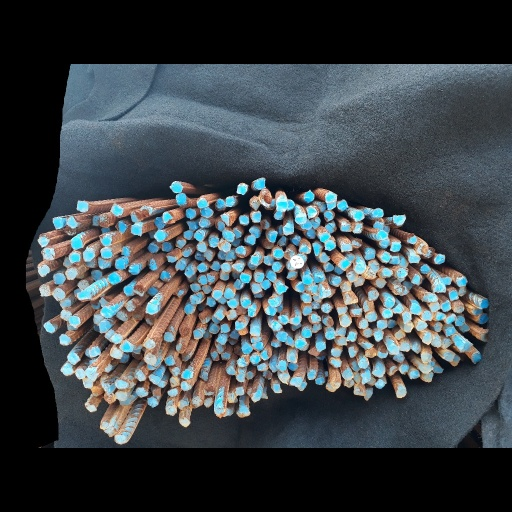dipstick: (213, 303, 228, 321), (259, 188, 272, 208), (318, 281, 331, 298), (81, 247, 95, 262), (325, 379, 341, 392), (342, 292, 358, 305), (98, 233, 112, 247), (36, 263, 50, 277), (131, 307, 145, 321), (60, 362, 74, 376), (362, 265, 376, 279), (98, 213, 111, 228), (98, 319, 111, 334), (225, 391, 238, 406), (377, 267, 394, 278), (110, 203, 124, 216), (41, 247, 55, 260), (52, 287, 65, 301), (145, 301, 158, 315), (58, 333, 72, 346), (85, 367, 98, 381), (143, 352, 157, 365), (189, 291, 203, 304), (339, 314, 352, 328), (382, 295, 395, 309), (249, 195, 261, 210), (410, 339, 422, 354), (442, 323, 457, 335), (114, 378, 130, 389), (235, 407, 251, 418), (140, 205, 153, 218), (130, 209, 143, 222), (75, 199, 88, 212), (114, 220, 127, 233), (219, 240, 232, 253), (100, 305, 113, 318), (67, 352, 80, 365), (101, 380, 114, 393), (190, 395, 203, 408), (234, 245, 247, 258), (353, 383, 366, 396), (291, 255, 304, 268), (313, 271, 326, 284), (311, 243, 324, 256), (351, 220, 364, 233), (300, 218, 313, 231), (168, 181, 182, 193), (235, 182, 249, 194), (252, 177, 266, 189), (52, 216, 64, 230), (70, 236, 82, 250), (153, 229, 167, 241), (99, 247, 113, 259), (107, 272, 121, 284), (37, 284, 51, 296), (109, 347, 123, 359), (120, 340, 134, 352), (198, 312, 212, 324), (278, 372, 290, 386), (400, 321, 414, 333), (337, 259, 351, 271), (90, 385, 105, 396), (392, 214, 407, 225), (174, 193, 187, 205), (276, 198, 288, 211), (214, 198, 226, 211), (161, 211, 173, 224), (159, 270, 171, 283), (68, 251, 80, 264), (36, 235, 49, 247), (65, 267, 77, 280), (133, 284, 145, 297), (59, 309, 72, 321), (68, 316, 81, 328), (103, 329, 115, 342), (145, 314, 158, 326), (134, 369, 146, 382), (148, 373, 161, 385), (183, 303, 196, 315), (244, 234, 257, 246), (248, 225, 261, 237), (266, 229, 278, 242), (240, 342, 253, 354), (275, 360, 287, 373), (365, 347, 378, 359), (283, 248, 296, 260), (308, 312, 321, 324), (322, 315, 334, 328), (329, 275, 342, 287), (367, 290, 380, 302), (375, 318, 387, 331), (367, 260, 380, 272), (420, 371, 433, 383), (409, 303, 422, 315), (298, 241, 311, 253), (324, 238, 336, 251), (324, 222, 337, 234), (336, 199, 348, 212), (199, 207, 213, 218), (142, 338, 156, 349), (289, 376, 303, 387), (329, 357, 343, 368), (401, 311, 412, 325), (391, 285, 405, 296), (76, 291, 91, 301), (431, 311, 446, 321), (325, 191, 337, 203), (130, 224, 142, 236), (147, 242, 159, 254), (193, 229, 205, 241), (223, 230, 235, 242), (114, 258, 126, 270), (53, 272, 65, 284), (116, 310, 128, 322), (43, 321, 55, 333), (89, 346, 101, 358), (169, 376, 181, 388), (104, 391, 116, 403), (214, 406, 226, 418), (250, 391, 262, 403), (302, 273, 314, 285), (301, 304, 313, 316), (399, 340, 411, 352), (363, 300, 375, 312), (353, 262, 365, 274), (470, 352, 482, 364), (364, 248, 376, 260), (379, 251, 391, 263), (290, 234, 302, 246), (340, 220, 352, 232), (333, 263, 345, 275), (196, 197, 209, 208), (219, 213, 230, 226), (122, 286, 135, 297), (77, 279, 90, 290), (110, 333, 123, 344), (73, 368, 86, 379), (116, 353, 129, 364), (165, 405, 178, 416), (84, 401, 97, 412), (105, 426, 118, 437), (208, 321, 219, 334), (275, 331, 288, 342), (308, 345, 321, 356), (264, 305, 277, 316), (268, 296, 281, 307), (289, 315, 302, 326), (392, 351, 405, 362), (339, 280, 352, 291), (364, 311, 377, 322), (395, 267, 408, 278), (442, 350, 455, 361), (440, 299, 451, 312), (455, 276, 468, 287), (340, 242, 353, 253), (423, 247, 436, 258), (375, 229, 388, 240), (306, 207, 319, 218), (352, 210, 365, 221), (371, 207, 384, 218), (304, 189, 314, 203), (113, 434, 127, 444), (231, 263, 245, 273), (275, 284, 289, 294), (349, 307, 363, 317), (360, 327, 374, 337), (433, 283, 447, 293), (317, 252, 331, 262), (310, 215, 320, 229), (418, 364, 433, 373), (238, 214, 249, 226), (153, 217, 164, 229), (161, 241, 173, 252), (185, 208, 197, 219), (208, 237, 220, 248), (165, 252, 177, 263), (128, 264, 140, 275), (147, 258, 158, 270), (90, 270, 102, 281), (124, 300, 135, 312), (93, 314, 104, 326), (175, 287, 187, 298), (163, 331, 175, 342), (164, 355, 176, 366), (180, 368, 192, 379), (180, 380, 192, 391), (178, 417, 190, 428), (179, 326, 190, 338), (223, 287, 234, 299), (225, 309, 237, 320), (249, 354, 261, 365), (184, 266, 195, 278), (254, 270, 265, 282), (247, 259, 259, 270), (250, 326, 262, 337), (374, 378, 386, 389), (396, 387, 407, 399), (360, 372, 371, 384), (347, 346, 358, 358), (270, 321, 282, 332), (277, 314, 289, 325), (266, 270, 277, 282), (271, 260, 282, 272), (377, 346, 388, 358), (388, 343, 399, 355), (394, 328, 405, 340), (381, 308, 393, 319), (386, 318, 397, 330), (346, 271, 358, 282), (353, 275, 364, 287), (433, 253, 445, 264), (421, 309, 432, 321), (445, 313, 456, 325), (452, 302, 464, 313), (350, 238, 362, 249), (398, 256, 409, 268), (319, 231, 331, 242), (294, 213, 306, 224), (186, 221, 199, 231), (59, 298, 72, 308), (135, 387, 148, 397), (114, 390, 127, 400), (205, 272, 215, 285), (250, 253, 260, 266), (252, 342, 265, 352), (363, 387, 373, 400), (320, 303, 333, 313), (460, 342, 473, 352), (442, 336, 452, 349), (428, 302, 441, 312), (401, 280, 414, 290), (322, 262, 335, 272), (371, 368, 385, 377), (360, 341, 374, 350), (374, 328, 383, 342), (225, 195, 236, 206), (196, 241, 207, 252), (177, 399, 188, 410), (175, 342, 186, 353), (215, 343, 226, 354), (205, 296, 216, 307), (211, 290, 222, 301), (236, 304, 247, 315), (235, 319, 246, 330), (219, 270, 230, 281), (259, 219, 270, 230), (240, 272, 251, 283), (342, 369, 353, 380), (387, 365, 398, 376), (315, 341, 326, 352), (294, 281, 305, 292), (392, 303, 403, 314), (420, 263, 431, 274), (417, 244, 428, 255), (391, 241, 402, 252), (406, 233, 417, 244), (305, 228, 316, 239), (316, 201, 327, 212), (323, 211, 334, 222), (251, 211, 261, 223), (199, 218, 211, 228), (181, 247, 193, 257), (147, 286, 159, 296), (146, 397, 158, 407), (199, 370, 209, 382), (215, 335, 227, 345), (261, 370, 273, 380), (220, 262, 232, 272), (204, 249, 214, 261), (194, 251, 206, 261), (232, 227, 242, 239), (286, 353, 298, 363), (343, 378, 355, 388), (358, 357, 368, 369), (398, 363, 408, 375), (408, 369, 420, 379), (285, 336, 295, 348), (294, 338, 306, 348), (311, 323, 323, 333), (374, 277, 386, 287), (420, 353, 432, 363), (421, 333, 431, 345), (430, 338, 442, 348), (415, 321, 427, 331), (478, 313, 488, 325), (388, 255, 400, 265), (372, 219, 384, 229), (67, 215, 76, 228), (256, 362, 269, 371), (269, 360, 278, 373), (330, 348, 343, 357), (350, 359, 359, 372), (289, 323, 302, 332), (408, 254, 421, 263), (287, 197, 295, 211), (182, 230, 193, 240), (62, 256, 72, 267), (98, 296, 109, 306), (82, 378, 93, 388), (204, 385, 215, 395), (192, 329, 203, 339), (235, 372, 245, 383), (234, 386, 245, 396), (272, 383, 283, 393), (220, 351, 231, 361), (220, 322, 230, 333), (247, 306, 257, 317), (230, 329, 240, 340), (233, 346, 244, 356), (175, 260, 186, 270), (197, 263, 208, 273), (210, 261, 221, 271), (263, 239, 274, 249), (234, 279, 244, 290), (307, 369, 317, 380), (288, 361, 299, 371), (336, 336, 347, 346), (346, 331, 356, 342), (251, 283, 262, 293), (273, 249, 283, 260), (284, 260, 295, 270), (358, 319, 369, 329), (411, 274, 421, 285), (432, 322, 443, 332), (455, 315, 465, 326), (427, 292, 438, 302), (448, 290, 459, 300), (283, 225, 294, 235), (378, 238, 389, 248), (167, 388, 179, 397), (227, 299, 239, 308), (240, 299, 252, 308), (190, 283, 202, 292), (270, 339, 282, 348), (286, 270, 298, 279), (336, 306, 348, 315), (432, 364, 444, 373), (451, 354, 460, 366), (130, 352, 143, 360), (311, 284, 319, 297), (120, 246, 130, 256), (175, 239, 185, 249), (170, 366, 180, 376), (203, 397, 213, 407), (210, 351, 220, 361), (197, 302, 207, 312), (261, 350, 271, 360), (325, 330, 335, 340), (336, 327, 346, 337), (263, 255, 273, 265), (311, 300, 321, 310), (480, 298, 490, 308), (458, 286, 468, 296), (277, 236, 287, 246), (225, 366, 236, 375), (236, 358, 247, 367), (156, 379, 167, 388), (296, 382, 307, 391), (353, 372, 362, 383), (301, 329, 312, 338), (261, 279, 270, 290), (305, 283, 314, 294), (312, 294, 323, 303), (459, 323, 470, 332), (273, 210, 284, 219), (92, 214, 100, 226), (481, 329, 489, 341), (119, 399, 132, 406), (471, 307, 484, 314), (153, 388, 162, 398), (99, 421, 109, 430), (181, 352, 190, 362), (198, 275, 207, 285), (231, 238, 241, 247), (302, 293, 311, 303), (217, 221, 225, 232), (245, 370, 253, 381), (314, 377, 325, 385), (103, 363, 112, 372), (441, 276, 451, 284), (237, 328, 248, 335), (253, 292, 264, 299), (147, 230, 156, 238), (187, 274, 196, 282), (84, 347, 90, 358), (245, 387, 252, 396), (383, 224, 390, 233), (261, 391, 268, 399), (88, 358, 97, 364), (316, 355, 325, 361)
